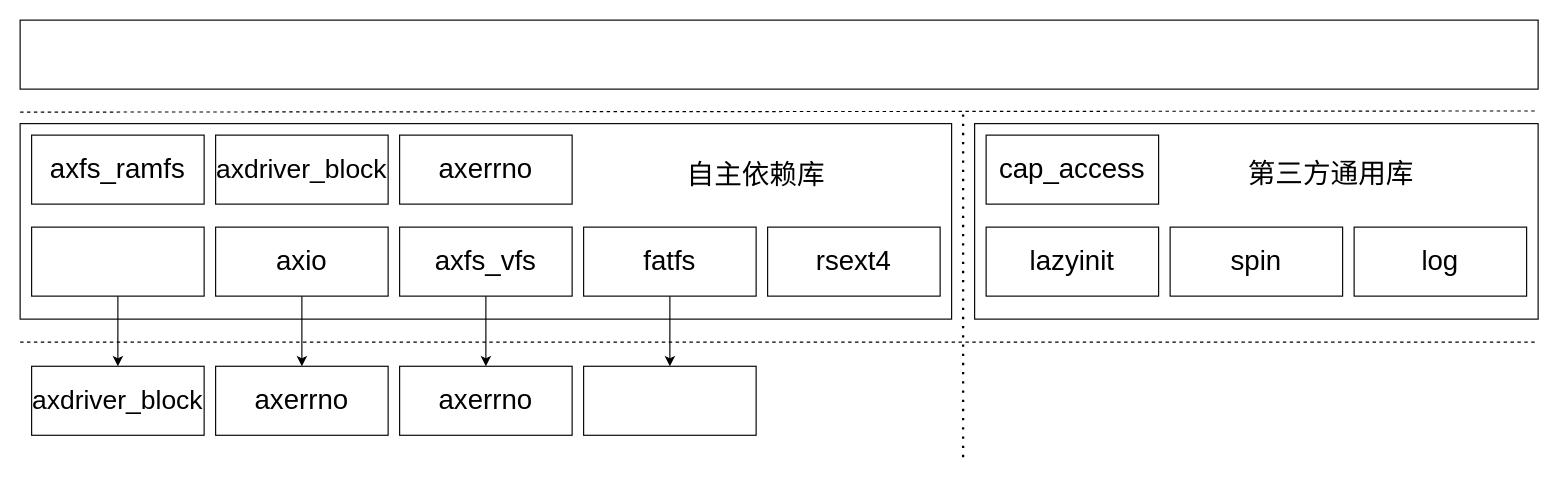
The diagram is 1559 pixels wide and 480 high, and some of its shapes have lost their labels. Here are the shapes that lost their labels. From the top down, the centre of each, then its label:
At (778,54): "axfs".
At (117,261): "axdriver".
At (669,400): "chrono".
